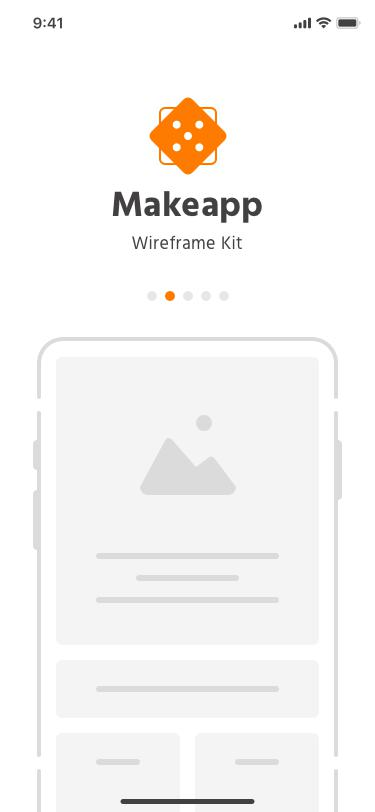Image: (34, 337, 342, 812), (150, 98, 227, 175)
PageIndicator: (147, 291, 230, 302)
Text: (112, 191, 263, 224), (132, 235, 244, 250)
UpperTaskBar: (34, 17, 362, 31)
